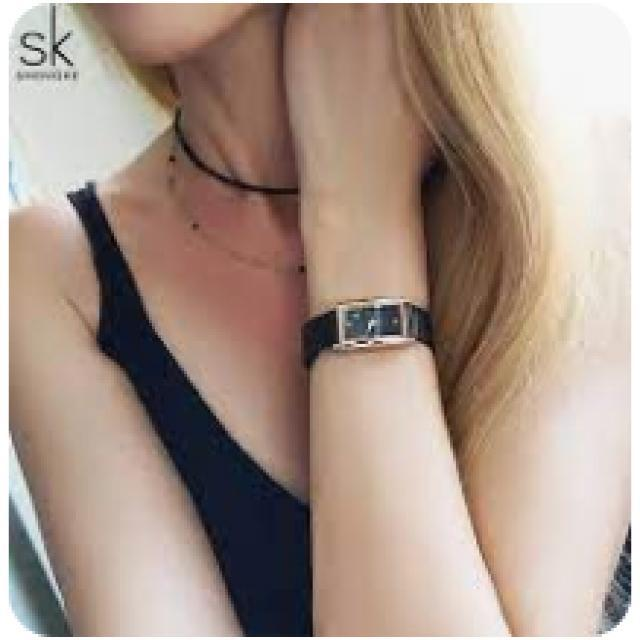Watch: (299, 301, 441, 356)
